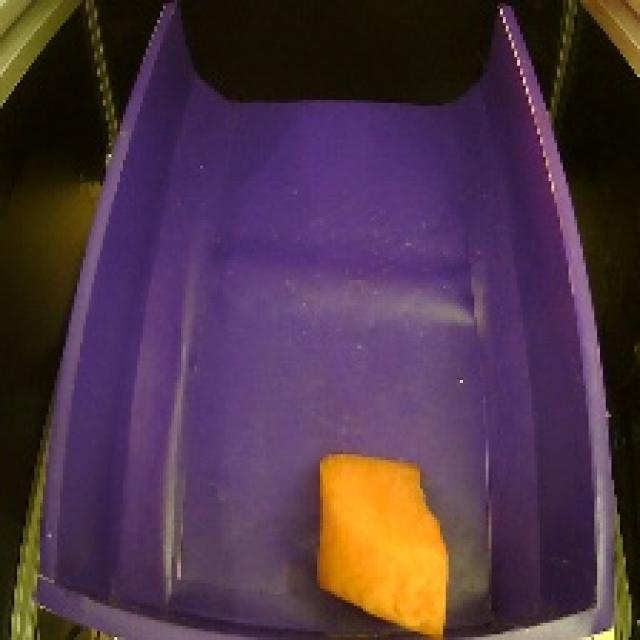carrots: (295, 444, 459, 639)
